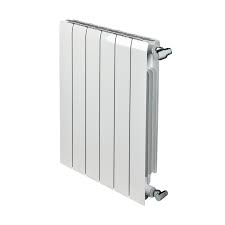Radiator: (59, 15, 172, 206)
